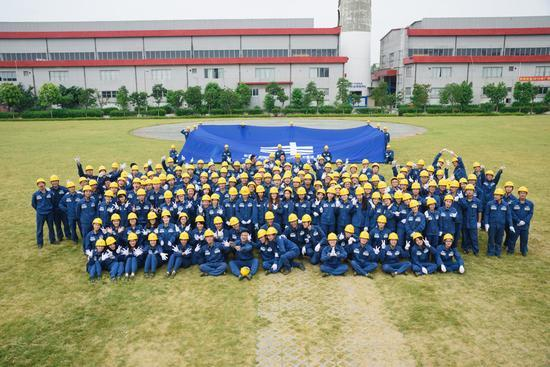helmet: (107, 237, 117, 247), (267, 228, 279, 236), (242, 268, 252, 277), (389, 232, 399, 241), (403, 193, 413, 202), (96, 239, 107, 247), (148, 233, 159, 241), (377, 216, 388, 224), (240, 187, 251, 195), (494, 189, 506, 196), (410, 201, 422, 208), (231, 217, 240, 226), (346, 225, 355, 234), (205, 229, 215, 237), (258, 229, 266, 239), (149, 212, 158, 220), (266, 212, 275, 220), (289, 214, 298, 222), (361, 232, 370, 240), (413, 233, 422, 241), (93, 218, 103, 225), (112, 214, 122, 221), (128, 213, 138, 220), (180, 233, 190, 240), (196, 216, 206, 223), (360, 175, 370, 182), (428, 199, 438, 206), (445, 235, 455, 242), (519, 187, 530, 193), (215, 217, 223, 225), (303, 215, 311, 223), (356, 188, 364, 196), (67, 182, 76, 189), (84, 185, 93, 192), (230, 188, 239, 195), (298, 188, 307, 195), (379, 182, 388, 189), (341, 189, 350, 196), (179, 214, 189, 220), (37, 179, 47, 185), (203, 195, 213, 201), (505, 182, 515, 188), (343, 178, 353, 184), (329, 234, 337, 241), (79, 177, 87, 184), (165, 192, 173, 199), (160, 174, 167, 182), (213, 194, 221, 201), (487, 170, 495, 177), (129, 234, 138, 240), (51, 176, 60, 182), (106, 191, 115, 197), (218, 178, 227, 184), (201, 172, 210, 178), (412, 183, 421, 189), (328, 188, 337, 194), (168, 175, 175, 182), (154, 178, 161, 185), (163, 211, 171, 217), (90, 180, 98, 186), (110, 183, 118, 189), (118, 190, 126, 196), (178, 189, 186, 195), (241, 173, 249, 179), (258, 187, 266, 193), (401, 179, 409, 185), (421, 171, 429, 177), (452, 181, 460, 187), (469, 175, 477, 181), (271, 187, 279, 193), (273, 167, 281, 173), (373, 176, 381, 182), (395, 193, 403, 199), (137, 190, 146, 195), (466, 185, 475, 190), (351, 166, 360, 171), (383, 195, 392, 200), (314, 181, 323, 186), (86, 165, 93, 171), (100, 166, 107, 172), (122, 172, 128, 179), (221, 168, 228, 174), (148, 172, 155, 178), (230, 177, 237, 183), (418, 161, 425, 167), (439, 180, 446, 186), (141, 176, 149, 181), (248, 182, 256, 187), (437, 171, 445, 176), (365, 184, 373, 189), (446, 196, 454, 201), (318, 190, 326, 195), (343, 173, 351, 178), (352, 173, 360, 178), (113, 163, 119, 169), (213, 173, 219, 179), (209, 162, 215, 168), (409, 162, 415, 168), (391, 178, 400, 182), (429, 166, 435, 172), (276, 161, 282, 167), (328, 174, 334, 180), (188, 185, 195, 190), (183, 174, 190, 179), (453, 158, 458, 165), (398, 174, 405, 179), (430, 182, 437, 187), (461, 179, 468, 184), (275, 175, 282, 180), (294, 178, 301, 183), (299, 171, 306, 176), (373, 163, 380, 168), (118, 178, 126, 182), (203, 185, 211, 189), (401, 169, 409, 173), (305, 175, 313, 179), (147, 179, 153, 184), (199, 160, 205, 165), (235, 162, 241, 167), (266, 174, 272, 179), (475, 163, 481, 168), (305, 165, 311, 170), (364, 160, 370, 165), (326, 164, 332, 169), (296, 154, 302, 159), (134, 179, 141, 183), (132, 166, 139, 170), (156, 165, 163, 169), (246, 160, 253, 164), (255, 174, 262, 178), (439, 160, 446, 164), (285, 164, 292, 168), (333, 173, 340, 177), (320, 157, 325, 162), (142, 181, 148, 185), (177, 167, 183, 171), (168, 159, 174, 163), (223, 163, 229, 167), (257, 162, 263, 166), (260, 169, 266, 173), (265, 160, 271, 164), (285, 174, 291, 178), (286, 188, 292, 192), (331, 181, 337, 185), (337, 160, 343, 164), (225, 145, 231, 149), (145, 164, 150, 168), (172, 145, 177, 149), (270, 154, 275, 158), (387, 145, 392, 149), (325, 146, 329, 150), (187, 127, 191, 131), (172, 145, 176, 149), (278, 145, 283, 148), (385, 128, 389, 131), (377, 124, 381, 127)
